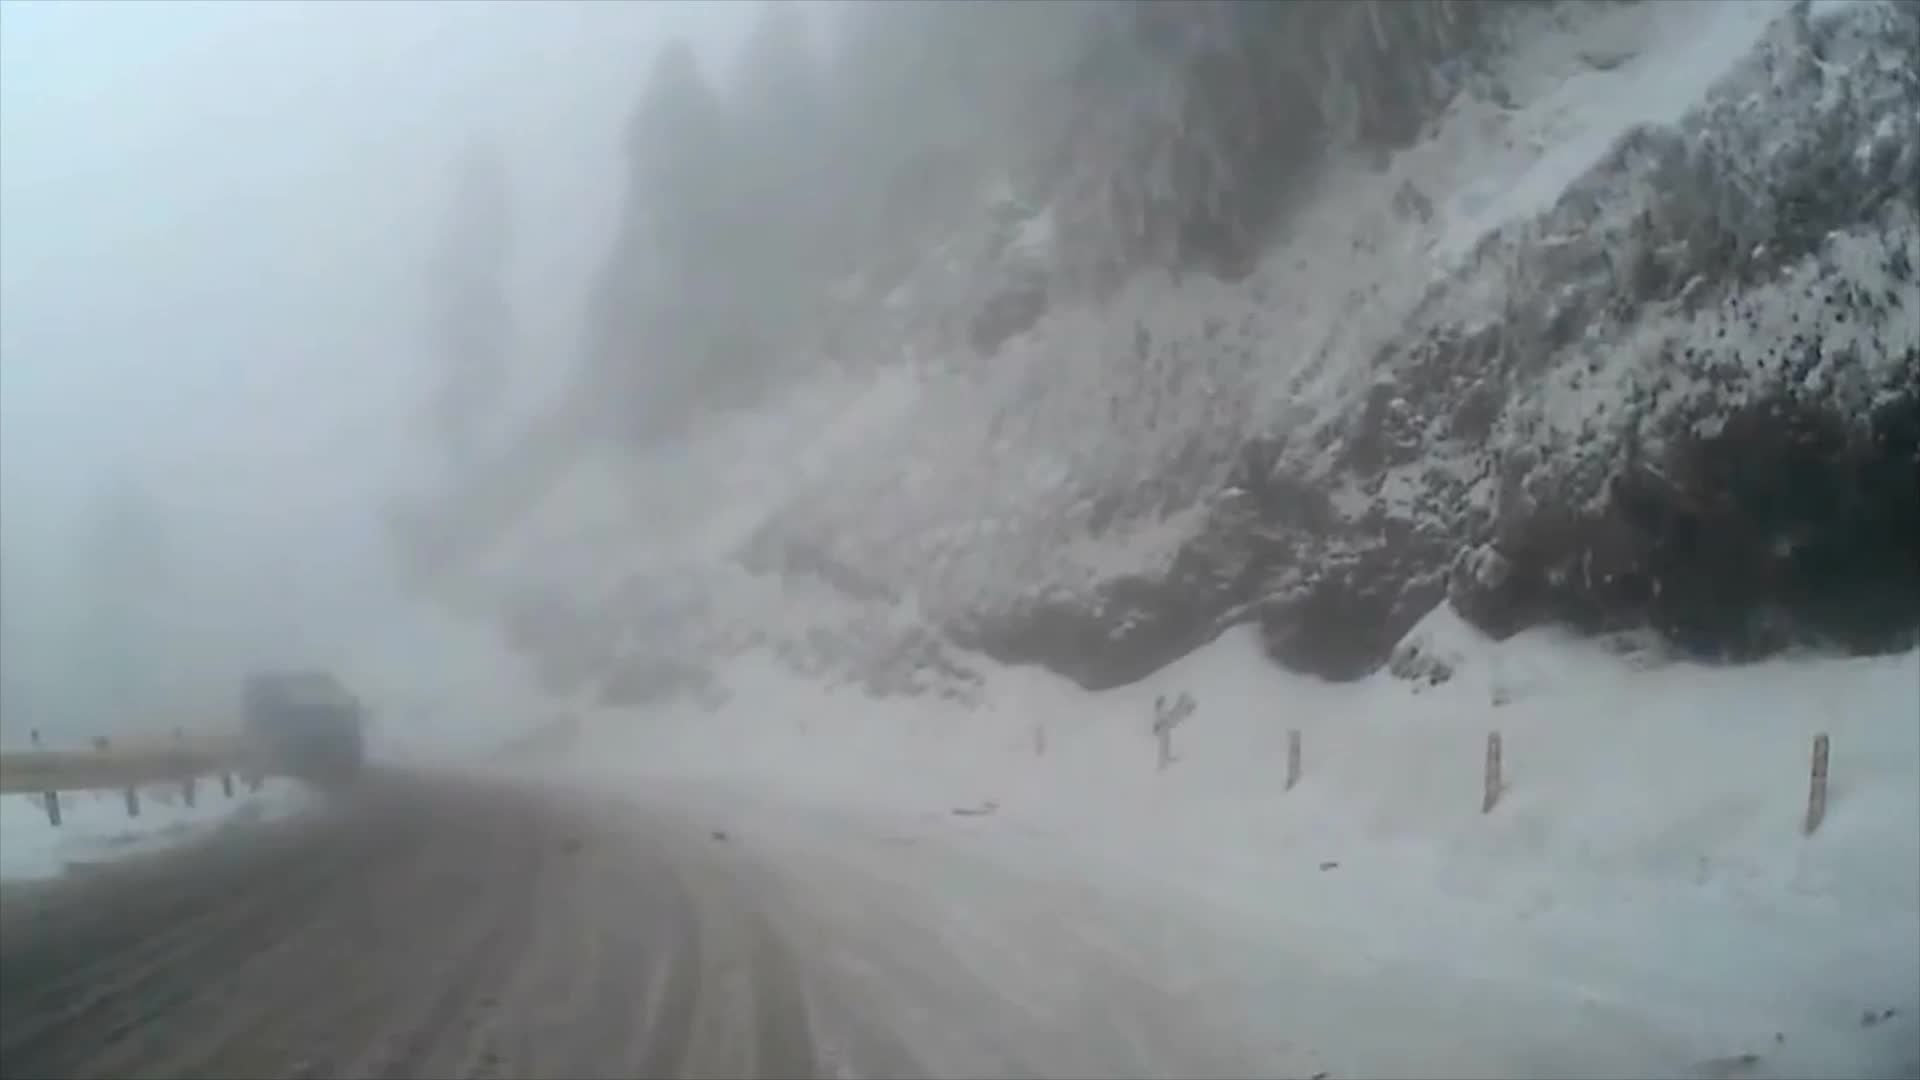vehicle: (243, 665, 365, 771)
